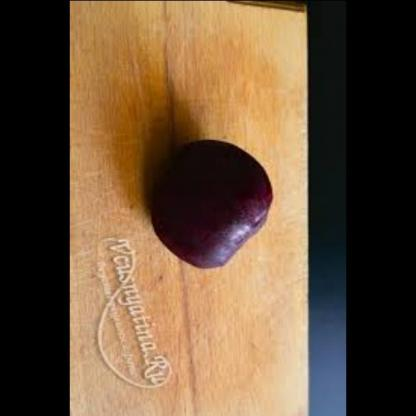beet: (148, 131, 280, 280)
